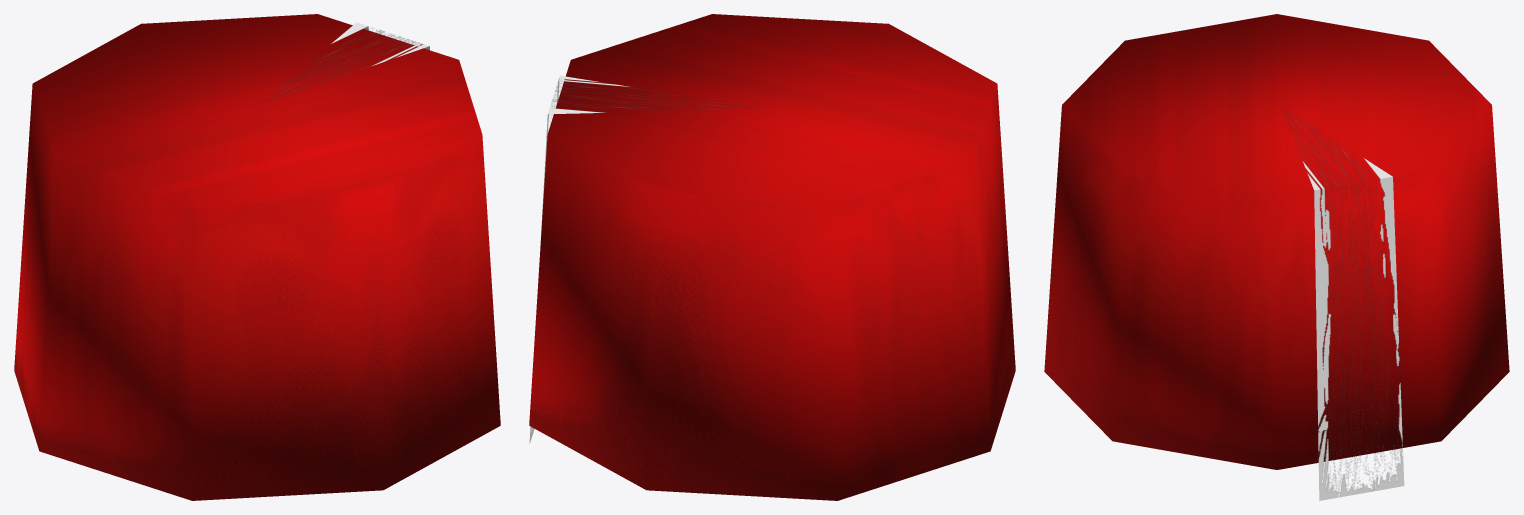
The model's file is Fez.glb.
The picture shows the model from 3 angles, left to right: view 1: azimuth 30°, elevation 25°; view 2: azimuth 150°, elevation 25°; view 3: azimuth 270°, elevation 25°; orthographic projection. The views are drawn at different scales.
Parts seen in each view (by area): view 1: Fez; view 2: Fez; view 3: Fez.
Part boxes in pixels (<box>): Fez: <box>14,14,500,500</box>; Fez: <box>529,14,1015,500</box>; Fez: <box>1044,14,1509,500</box>.
Size of the model in its own units: 2 by 1.44 by 2.
2 materials, 2 textured.
